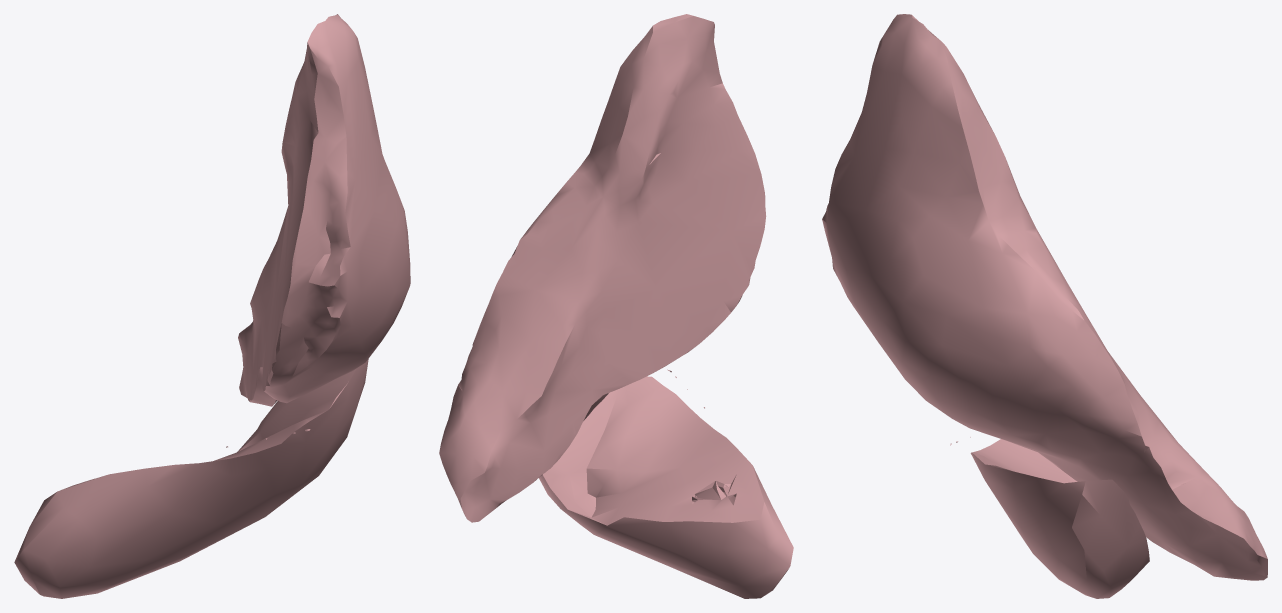
File: fma72704_cx229.glb
3 renders of one model, left to right at view 1: azimuth 30°, elevation 25°; view 2: azimuth 150°, elevation 25°; view 3: azimuth 270°, elevation 25°, orthographic. The views are drawn at different scales.
Visible parts, largest first — view 1: FMA72704_CX229; view 2: FMA72704_CX229; view 3: FMA72704_CX229.
Boxes of the visible parts, x1,y1,x2,y2 form: FMA72704_CX229: (14, 14, 410, 598); FMA72704_CX229: (439, 14, 793, 598); FMA72704_CX229: (822, 14, 1267, 598).
Size of the model in its own units: 0.0168 by 0.0261 by 0.0174.
